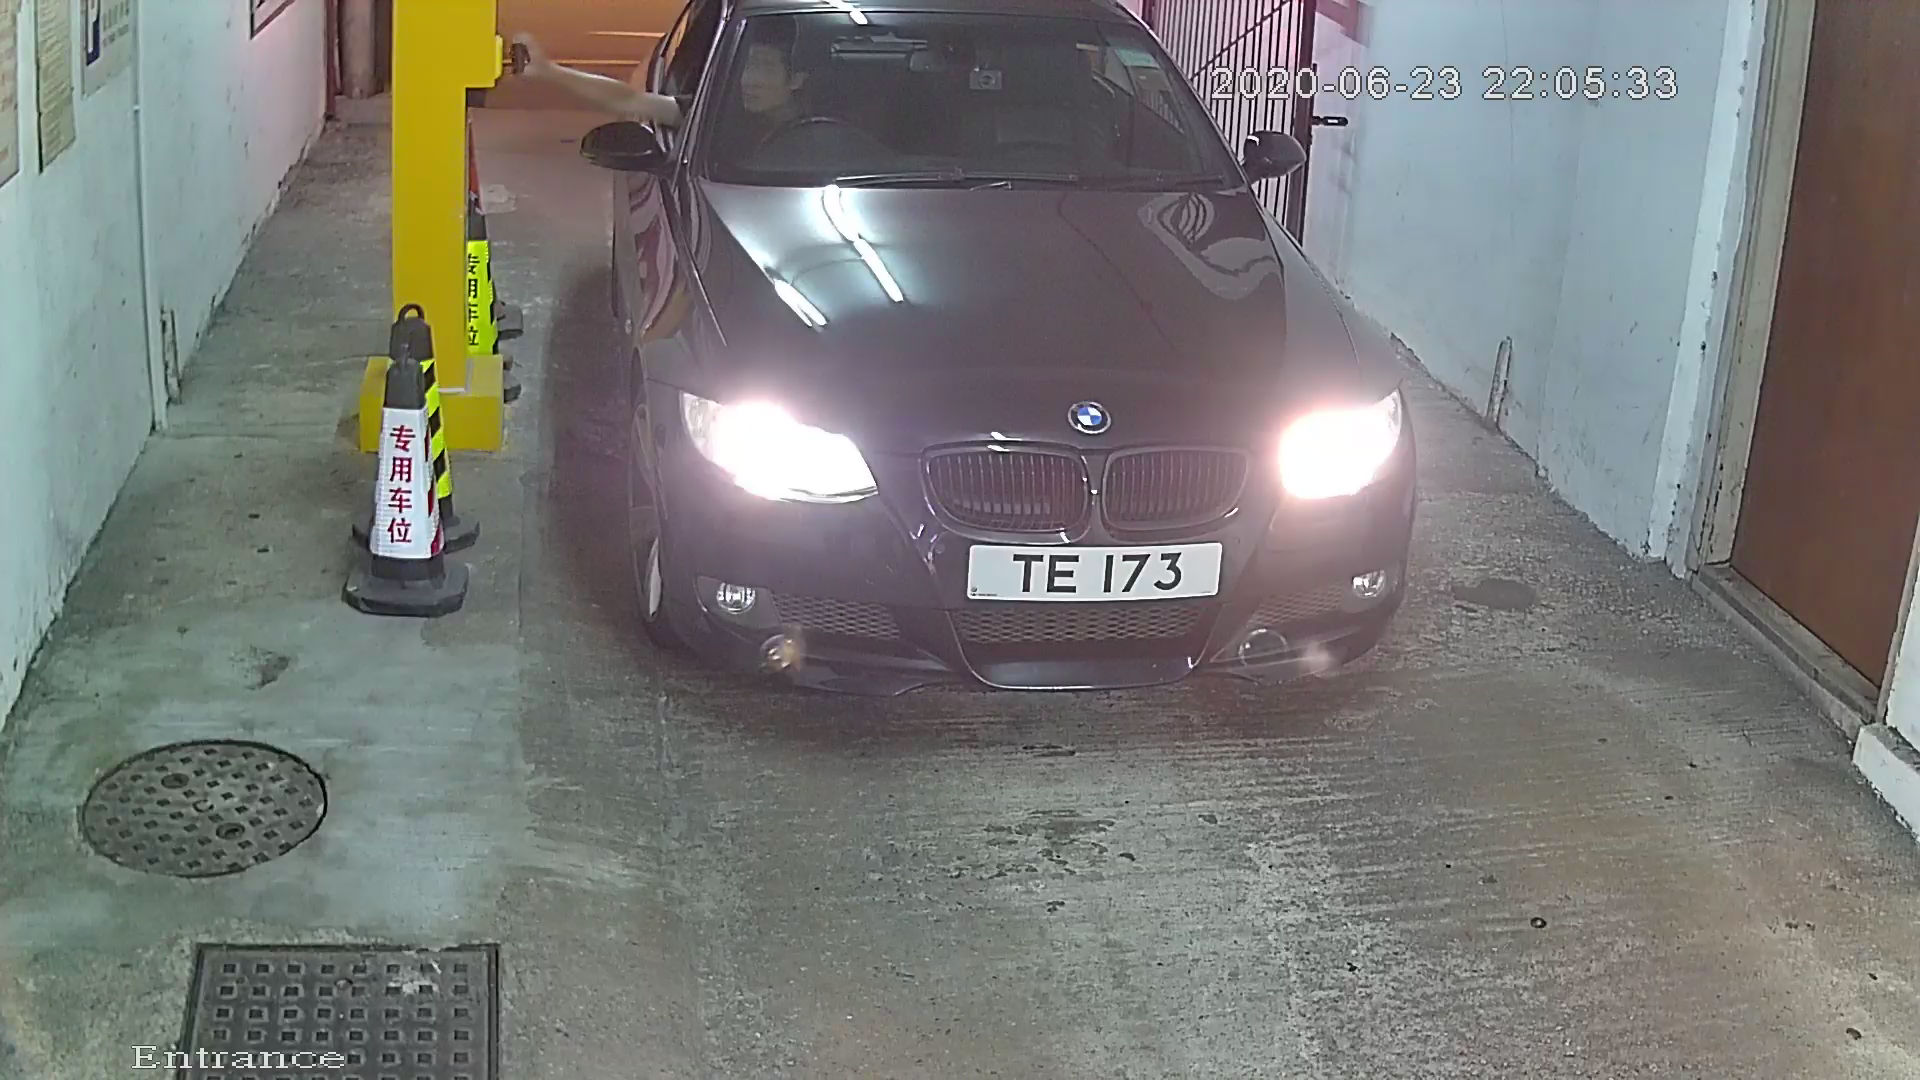privatecar: (558, 1, 1440, 752)
